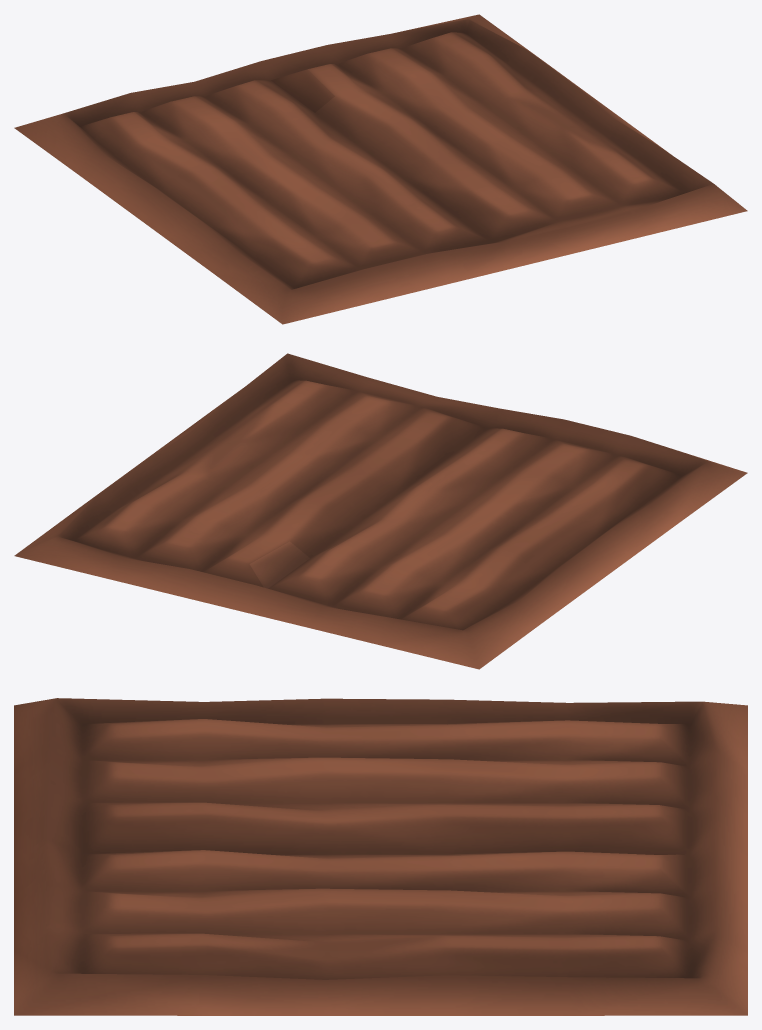
File: farm_land_01.fbx
3 views of the same model, one above another, from view 1: azimuth 30°, elevation 25°; view 2: azimuth 150°, elevation 25°; view 3: azimuth 270°, elevation 25° (orthographic). The views are drawn at different scales.
Parts seen in each view (by area): view 1: farm:land; view 2: farm:land; view 3: farm:land.
Part boxes in pixels (bbox=[...]): farm:land: bbox=[14, 14, 747, 324]; farm:land: bbox=[14, 353, 747, 669]; farm:land: bbox=[14, 698, 747, 1015].
Bounding box in the file's own units: 5.82 × 0.2626 × 5.81.
